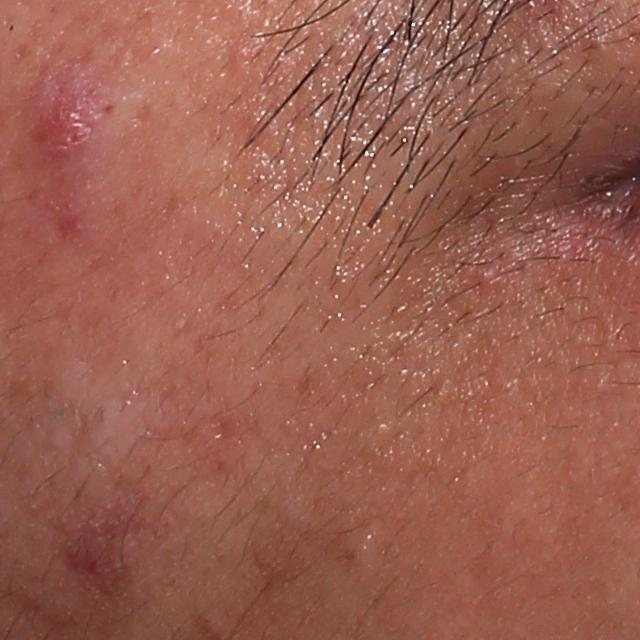comedo: (199, 608, 224, 639)
papule: (21, 80, 103, 162), (474, 259, 504, 291)
